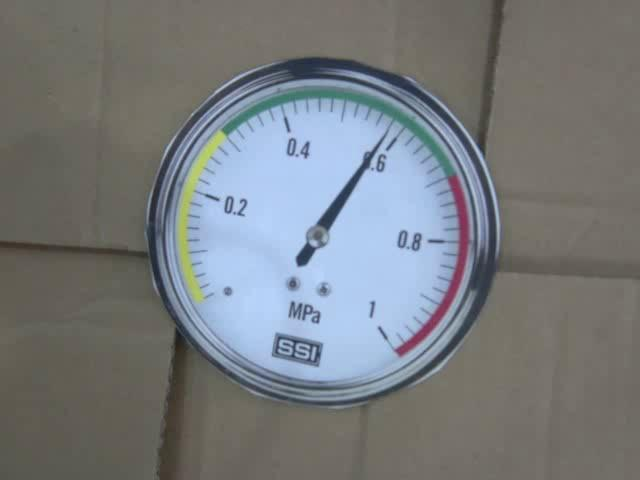Dashboard: (144, 58, 499, 408)
ssi: (272, 333, 323, 369)
